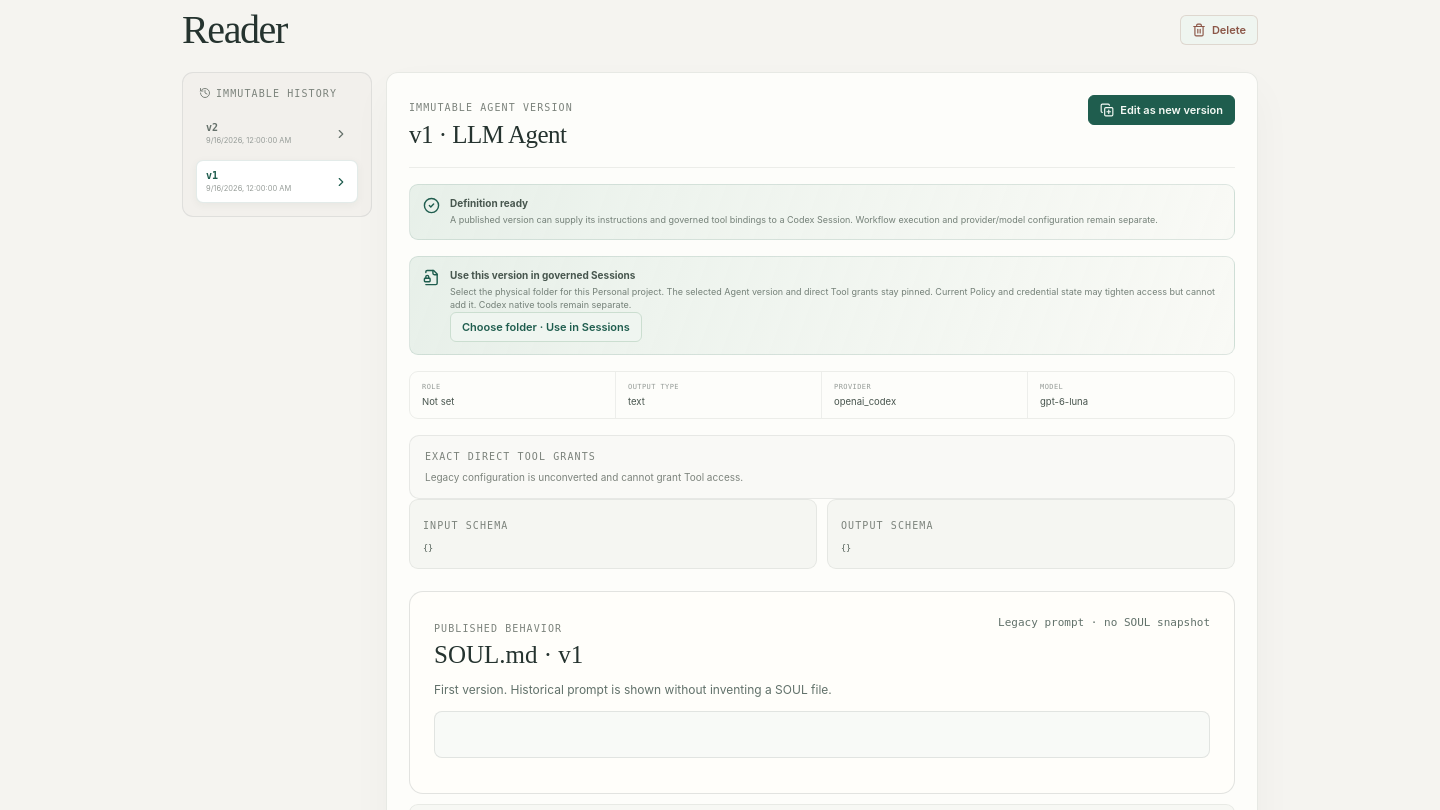
ORCLOCAL-81 published Local Agent to Sessions UI › shows a binding conflict and keeps the selected version open for recovery
Click the button "Choose folder · Use in Sessions" at [546, 326], box [450,312,642,342]
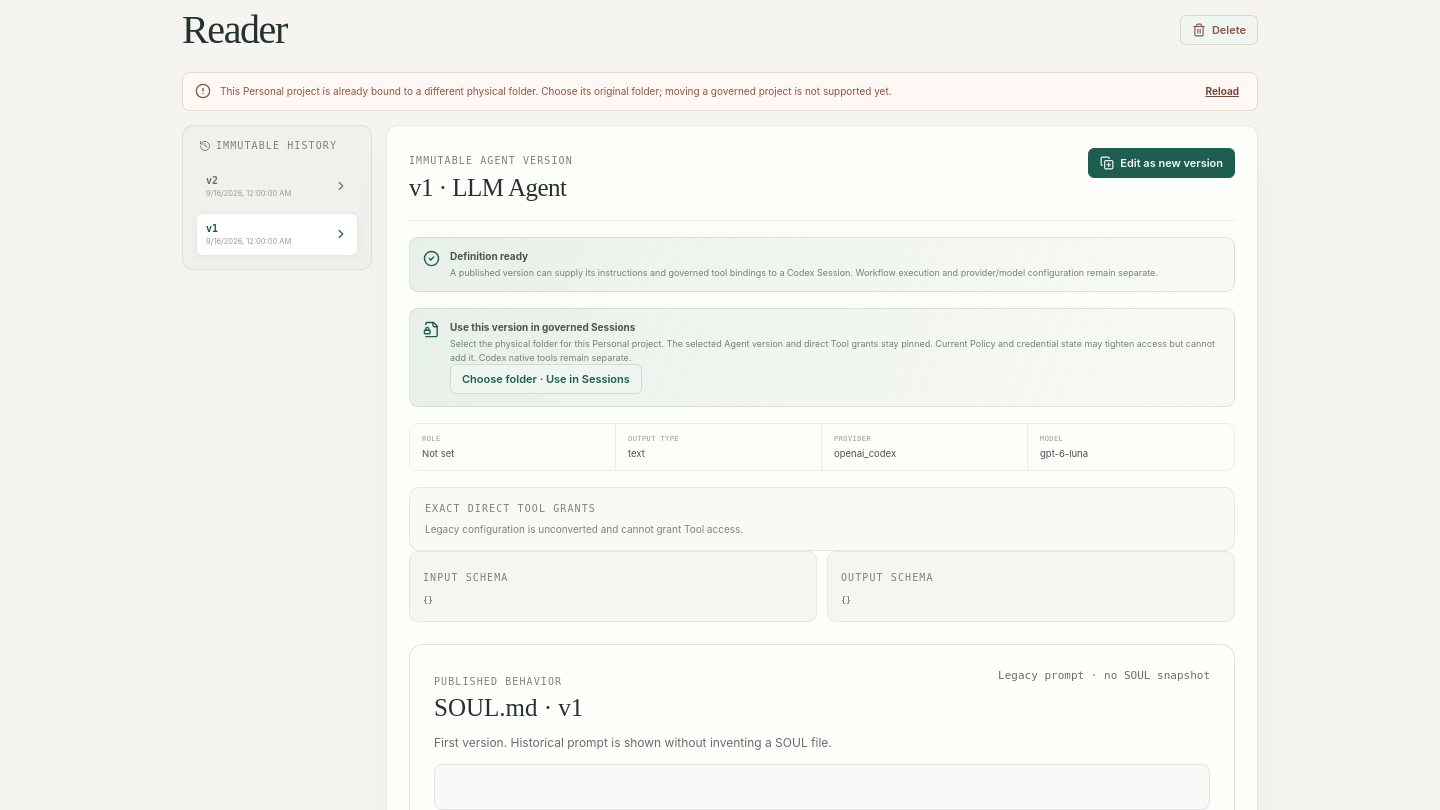
Check: the message shows "already bound to a different physical folder", box [220,85,892,97]
